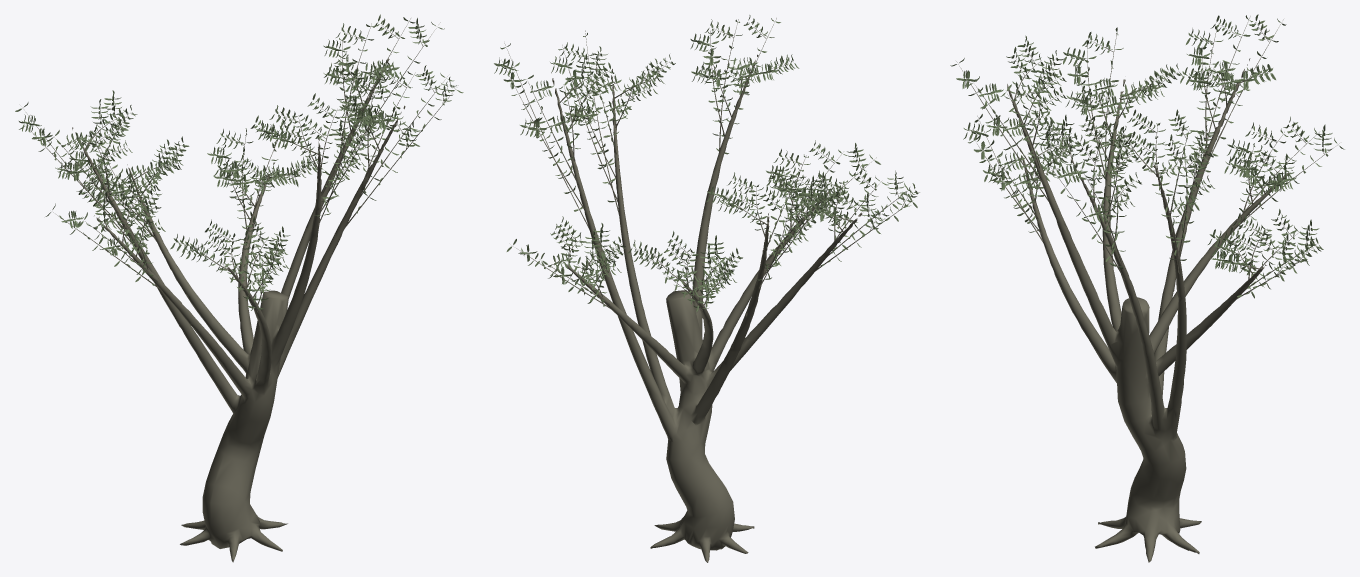
Rendered from Oleastre_1_Niveau0.fbx.
3 renders of one model, left to right at view 1: azimuth 30°, elevation 25°; view 2: azimuth 150°, elevation 25°; view 3: azimuth 270°, elevation 25°, orthographic. The views are drawn at different scales.
Visible parts, largest first — view 1: Oleastre_1_Niveau0_Jeu; view 2: Oleastre_1_Niveau0_Jeu; view 3: Oleastre_1_Niveau0_Jeu.
Boxes of the visible parts, left/top/right/bottom form: Oleastre_1_Niveau0_Jeu: left=15, top=14, right=463, bottom=562; Oleastre_1_Niveau0_Jeu: left=494, top=15, right=919, bottom=562; Oleastre_1_Niveau0_Jeu: left=950, top=14, right=1344, bottom=562.
Bounding box in the file's own units: 358 × 388 × 283.
